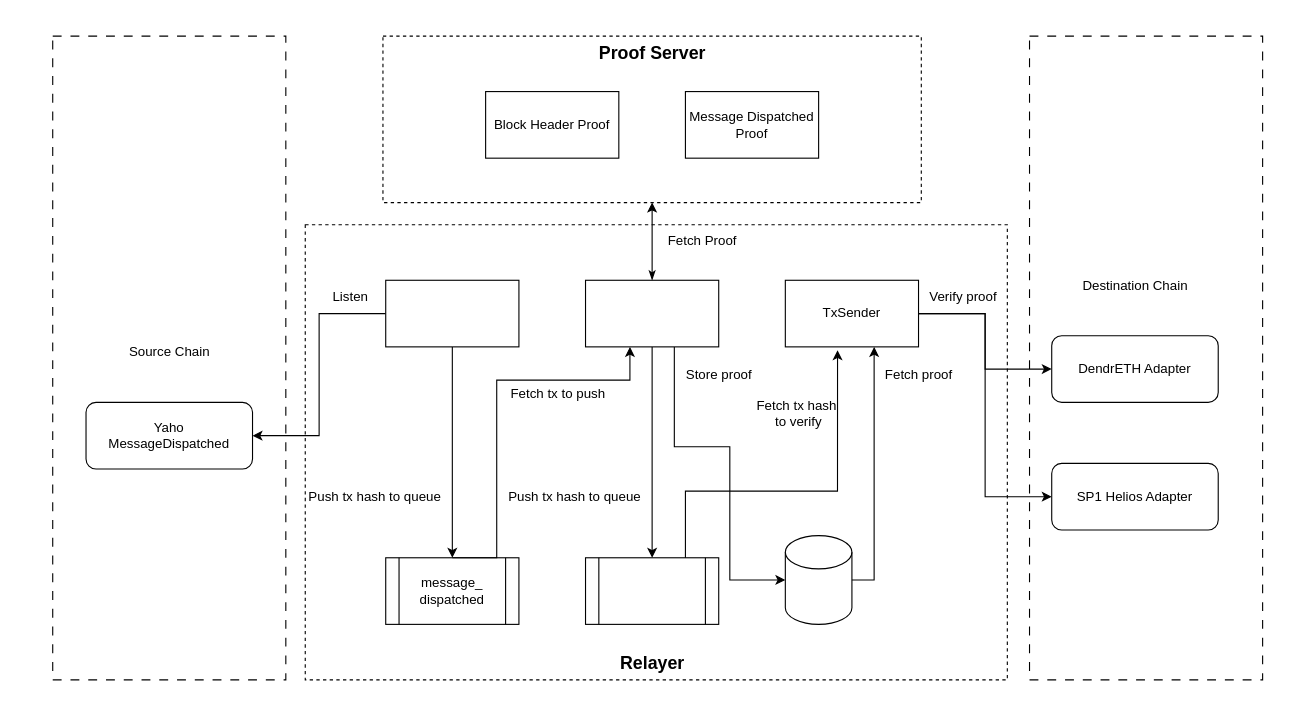
This 1303x720 diagram has some shape labels left out. The centre of each missing label's shape, as x and y in pixels:
"Event Listener" goes at [452,313].
"Proof DB" goes at [818,579].
"Proof Processor" goes at [651,313].
"tx_to_send" goes at [651,590].
